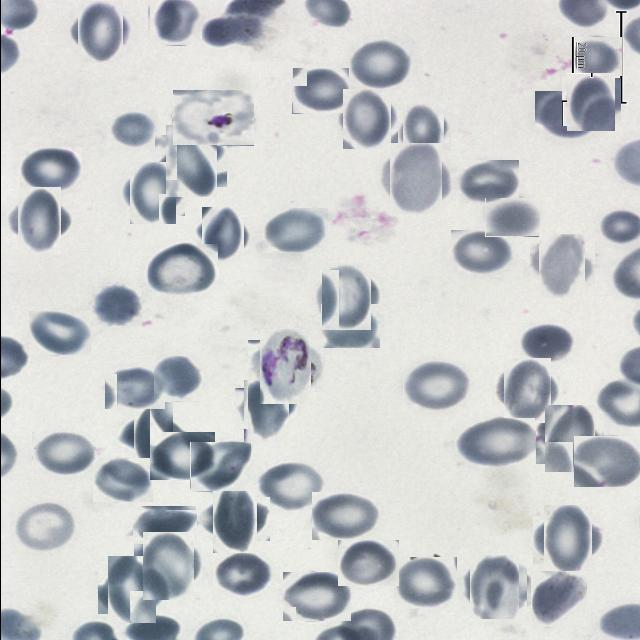red blood cell: (384, 148, 446, 210), (159, 130, 221, 192), (148, 244, 218, 297), (460, 418, 534, 468), (137, 536, 197, 596), (538, 510, 597, 570), (402, 361, 470, 412), (281, 572, 350, 622), (540, 409, 598, 468), (573, 436, 639, 487), (102, 560, 160, 618), (317, 268, 375, 326), (311, 492, 380, 540), (465, 559, 522, 616), (206, 490, 262, 548), (258, 462, 325, 510), (393, 557, 456, 608), (12, 502, 75, 553), (348, 39, 412, 89), (498, 362, 555, 418), (534, 91, 600, 139), (534, 238, 590, 294), (530, 571, 586, 627), (149, 432, 214, 480), (11, 192, 66, 248), (189, 442, 250, 492), (72, 4, 127, 58), (125, 166, 180, 220), (339, 92, 394, 146), (262, 208, 327, 253), (126, 408, 180, 462), (238, 384, 292, 438), (19, 147, 81, 193), (31, 432, 95, 476), (564, 75, 617, 128), (337, 540, 398, 586), (450, 230, 512, 275), (212, 552, 273, 597), (28, 311, 90, 355), (291, 68, 350, 114), (458, 160, 518, 204), (92, 458, 152, 502), (103, 367, 164, 410), (320, 304, 379, 348), (131, 506, 196, 545), (198, 12, 264, 50), (148, 0, 202, 46), (198, 211, 246, 259), (399, 106, 446, 154), (152, 356, 201, 402), (519, 323, 574, 363), (90, 284, 141, 327), (484, 198, 539, 237), (571, 37, 621, 76), (106, 110, 157, 148)
trophozoite: (171, 90, 253, 146), (253, 334, 316, 398)
